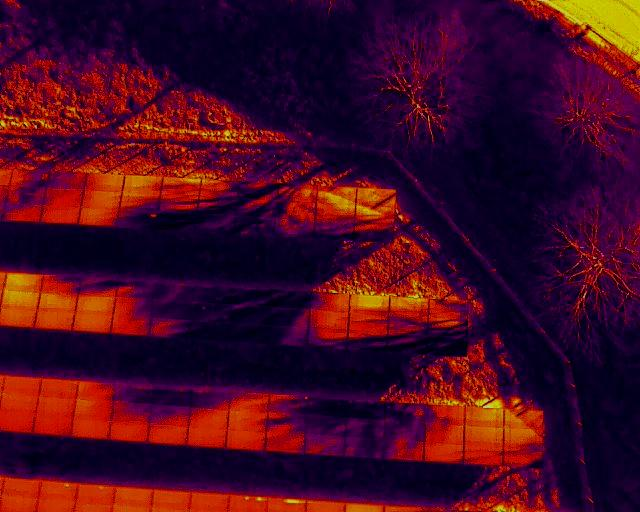Cell: (38, 482, 76, 500), (76, 485, 113, 503)
Cell-Multi: (228, 496, 266, 511)
No-Anomaly: (186, 427, 227, 447), (147, 425, 189, 444), (1, 376, 40, 396), (34, 415, 73, 435), (72, 419, 111, 439), (0, 411, 34, 433), (73, 314, 112, 333), (424, 443, 463, 462), (41, 205, 79, 224), (4, 272, 42, 291), (35, 311, 73, 330), (463, 426, 503, 444), (2, 290, 39, 309), (39, 293, 76, 312), (1, 479, 38, 498), (39, 379, 78, 397), (36, 397, 75, 415), (464, 408, 503, 426), (110, 422, 149, 440), (85, 173, 123, 191), (82, 190, 120, 208), (77, 295, 114, 313), (0, 308, 35, 327), (113, 488, 152, 505), (0, 395, 38, 412), (152, 491, 190, 508), (350, 296, 390, 312), (190, 493, 228, 509)
Shadowing: (228, 389, 270, 412), (275, 182, 318, 204), (274, 199, 317, 221), (354, 186, 396, 208), (272, 217, 314, 239), (150, 317, 192, 339), (197, 196, 239, 217), (152, 384, 192, 406), (314, 216, 355, 237), (192, 284, 233, 305), (152, 299, 193, 320), (191, 303, 232, 324), (191, 320, 232, 341), (387, 331, 428, 352), (267, 393, 308, 414), (111, 402, 152, 423), (225, 430, 266, 451), (304, 434, 345, 455), (236, 197, 279, 217), (354, 204, 396, 224), (230, 323, 272, 343), (77, 379, 115, 401), (198, 179, 239, 199), (231, 305, 272, 325), (383, 440, 424, 460), (271, 306, 310, 327), (354, 219, 394, 239), (153, 282, 193, 302), (232, 287, 272, 307), (388, 314, 428, 334), (427, 316, 467, 336), (74, 400, 114, 420), (266, 413, 306, 433), (265, 433, 305, 453), (344, 437, 384, 457), (315, 185, 357, 204), (384, 421, 426, 440), (313, 202, 357, 220), (44, 187, 83, 207), (191, 388, 230, 408), (308, 309, 349, 328), (307, 328, 348, 347), (343, 420, 384, 439), (78, 207, 118, 226), (271, 288, 311, 307), (347, 329, 387, 348), (306, 415, 346, 434), (463, 444, 503, 463), (148, 406, 190, 424), (114, 384, 153, 403), (238, 181, 279, 199), (188, 408, 229, 426), (227, 412, 268, 430), (10, 169, 48, 188), (42, 275, 80, 294), (116, 279, 154, 298), (270, 326, 308, 345), (308, 396, 346, 415), (161, 177, 201, 195), (159, 194, 199, 212), (345, 400, 385, 418), (428, 336, 465, 355), (310, 293, 349, 311), (425, 406, 464, 424), (504, 410, 543, 428), (504, 445, 543, 463), (348, 312, 389, 329), (47, 171, 85, 189), (4, 204, 42, 222), (80, 277, 116, 296), (120, 192, 160, 209), (111, 316, 151, 333), (386, 404, 426, 421), (114, 298, 153, 315), (429, 300, 468, 317), (425, 425, 464, 442), (6, 187, 44, 204), (389, 299, 429, 315), (122, 177, 161, 193), (504, 429, 543, 445)
